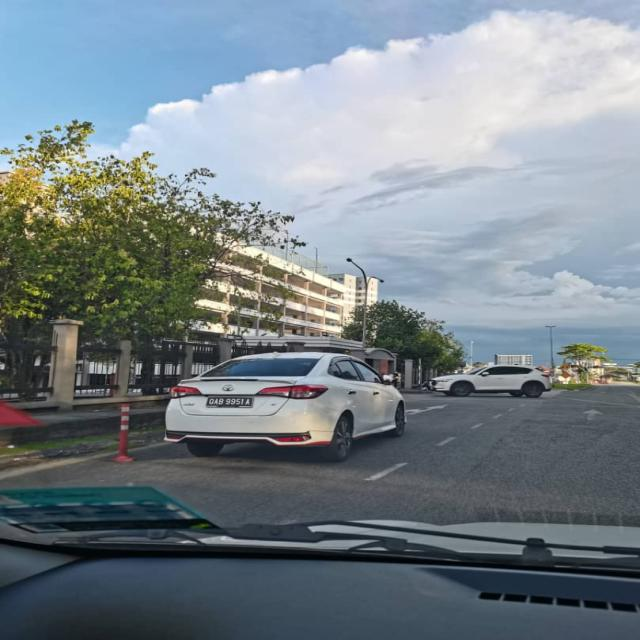ToyotaVios: (162, 350, 407, 462)
